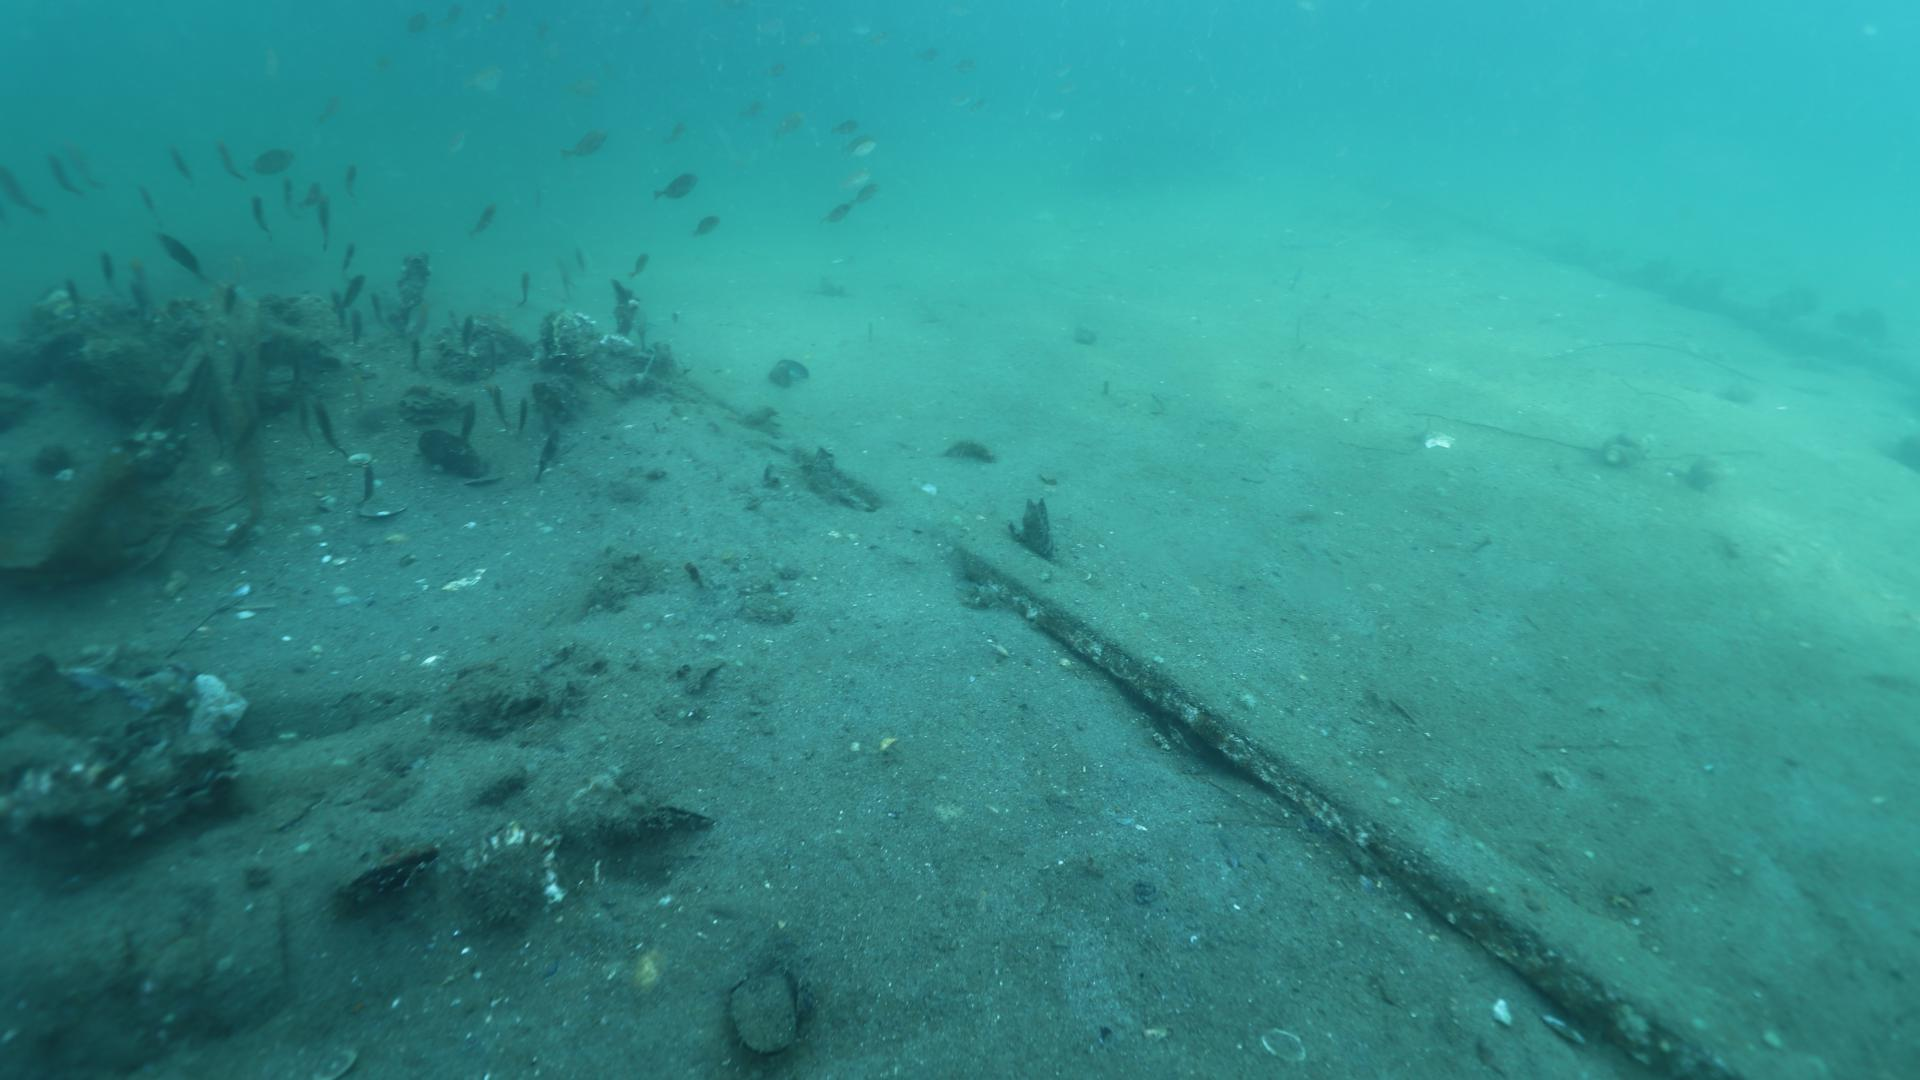wood: (961, 535, 1834, 1080)
